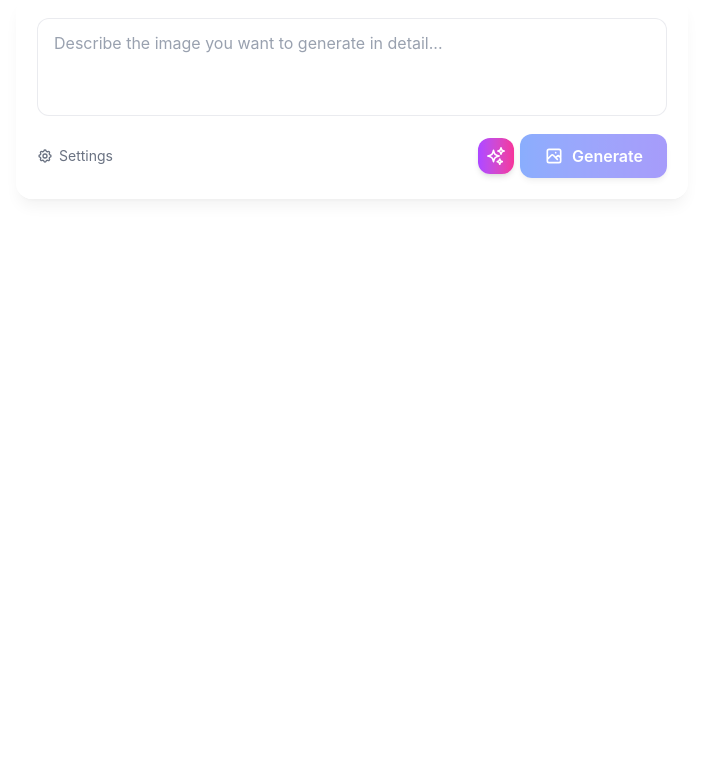
Test: ImageGenerator › shows loading state while generating
The image size is (705, 765).
Type "a cat" into the text box with placeholder "Describe the image you want to generate in detail..." at (352,67), box [37, 18, 667, 116]
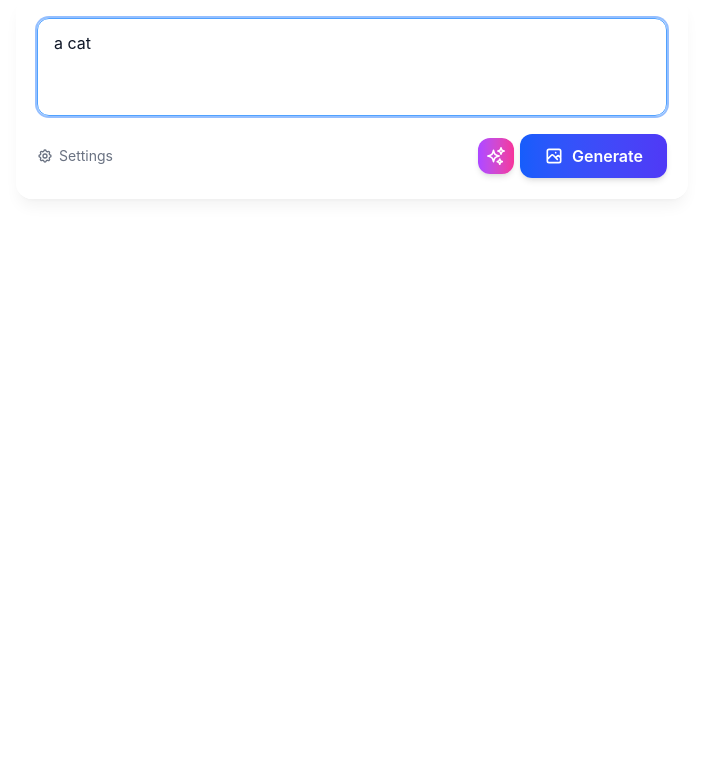
Click the button "Generate" at (594,156), box [520, 134, 667, 178]
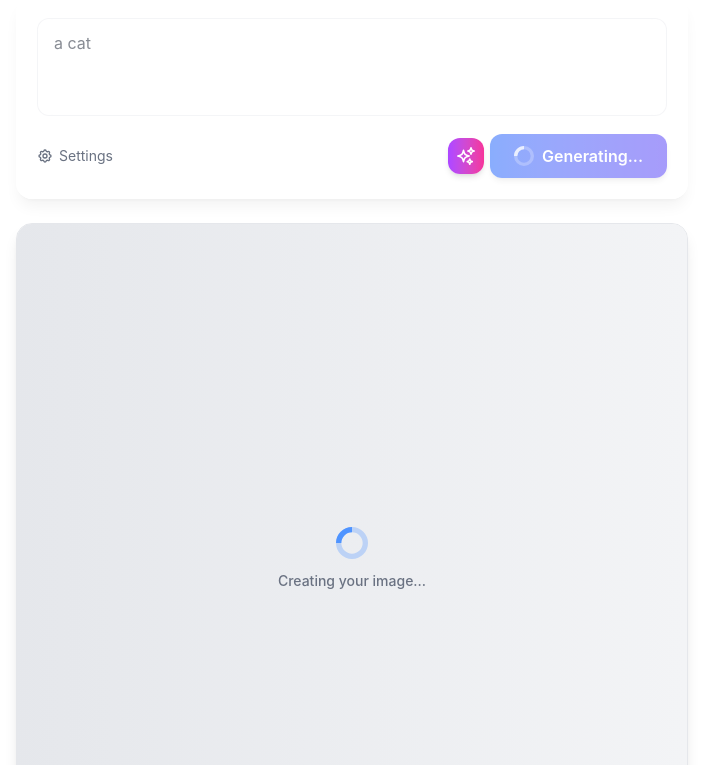
expect the button "Generating..." is shown: met, box [490, 134, 667, 178]
